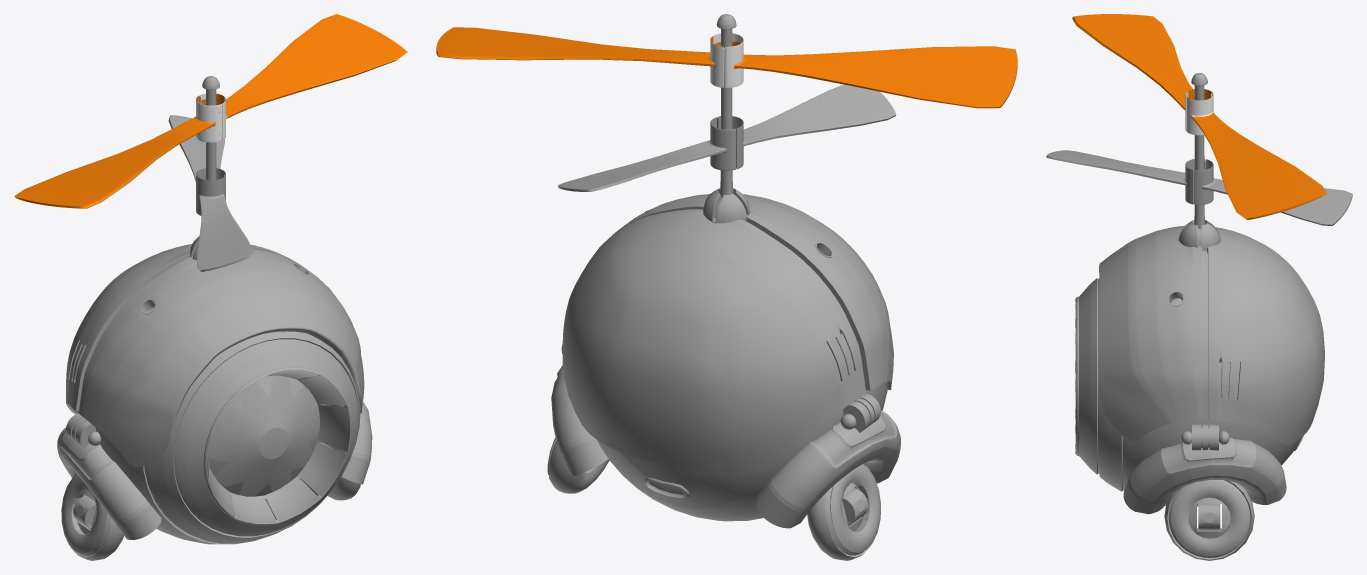
The model's file is FLYING_HOOP.fbx.
3 views of the same model, side by side, from view 1: azimuth 30°, elevation 25°; view 2: azimuth 150°, elevation 25°; view 3: azimuth 270°, elevation 25° (orthographic). The views are drawn at different scales.
Visible parts, largest first — view 1: obj_polySurface21polySurface2polySurface1, obj_polySurface9, polySurface12, obj_polySurface27, obj_polySurface10polySurface7polySurface4pSphere1, obj_pTorus1, polySurface13, obj_polySurface42, obj_pSphere2; view 2: obj_polySurface21polySurface2polySurface1, polySurface12, obj_pTorus1, polySurface13, obj_polySurface9, obj_polySurface42, obj_pSphere2; view 3: obj_polySurface21polySurface2polySurface1, polySurface12, obj_polySurface9, obj_pTorus1, obj_polySurface42, polySurface13, obj_pSphere2, obj_polySurface27, obj_polySurface10polySurface7polySurface4pSphere1.
Boxes of the visible parts, x1,y1,x2,y2 form: obj_polySurface21polySurface2polySurface1: (66, 244, 364, 467); obj_polySurface9: (95, 310, 360, 544); polySurface12: (14, 14, 407, 208); obj_polySurface27: (77, 375, 319, 555); obj_polySurface10polySurface7polySurface4pSphere1: (203, 367, 351, 525); obj_pTorus1: (57, 402, 372, 539); polySurface13: (168, 115, 253, 271); obj_polySurface42: (61, 413, 360, 560); obj_pSphere2: (189, 76, 219, 260); obj_polySurface21polySurface2polySurface1: (562, 194, 893, 473); polySurface12: (436, 27, 1017, 108); obj_pTorus1: (551, 365, 900, 528); polySurface13: (557, 84, 896, 191); obj_polySurface9: (596, 383, 887, 521); obj_polySurface42: (547, 344, 880, 560); obj_pSphere2: (703, 14, 750, 223); obj_polySurface21polySurface2polySurface1: (1099, 225, 1324, 444); polySurface12: (1072, 14, 1326, 219); obj_polySurface9: (1079, 278, 1303, 506); obj_pTorus1: (1123, 437, 1286, 514); obj_polySurface42: (1164, 424, 1254, 560); polySurface13: (1046, 150, 1352, 225); obj_pSphere2: (1178, 73, 1220, 251); obj_polySurface27: (1123, 436, 1250, 557); obj_polySurface10polySurface7polySurface4pSphere1: (1075, 296, 1078, 455).
Size of the model in its own units: 0.0776 by 0.0762 by 0.0497.
2 materials, 1 textured.
